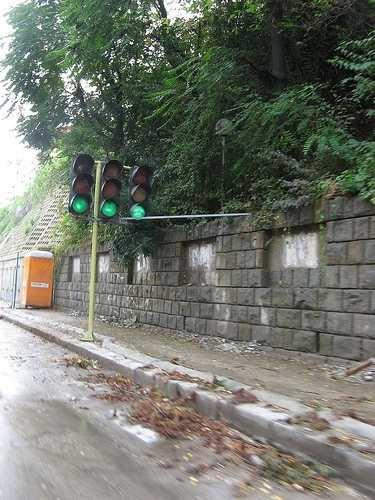green: (68, 149, 96, 217), (99, 151, 124, 219), (126, 154, 151, 220), (70, 196, 95, 217), (102, 198, 124, 220), (127, 202, 147, 221)
